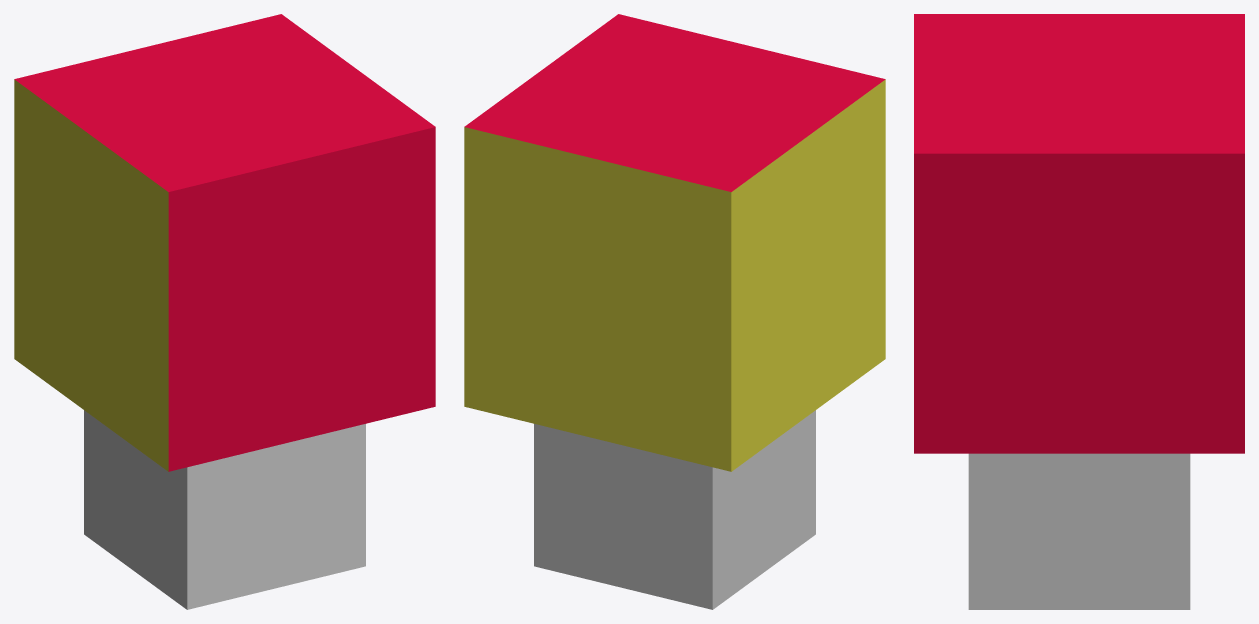
3 views of the same model, side by side, from view 1: azimuth 30°, elevation 25°; view 2: azimuth 150°, elevation 25°; view 3: azimuth 270°, elevation 25° (orthographic). The views are drawn at different scales.
Parts seen in each view (by area): view 1: Cube; view 2: Cube; view 3: Cube.
Part boxes in pixels (x1,y1,x2,y2): Cube: [14, 14, 435, 609]; Cube: [464, 14, 885, 609]; Cube: [914, 14, 1244, 609].
Size of the model in its own units: 2.99 by 4.78 by 2.99.
